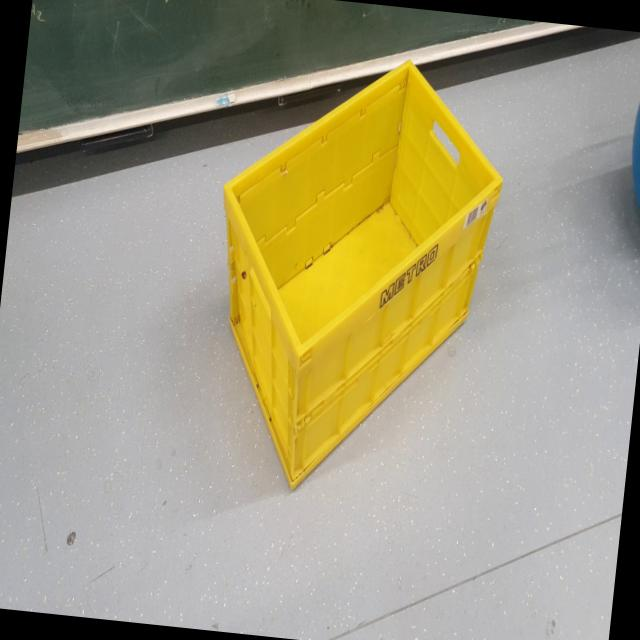box: (186, 30, 519, 528)
